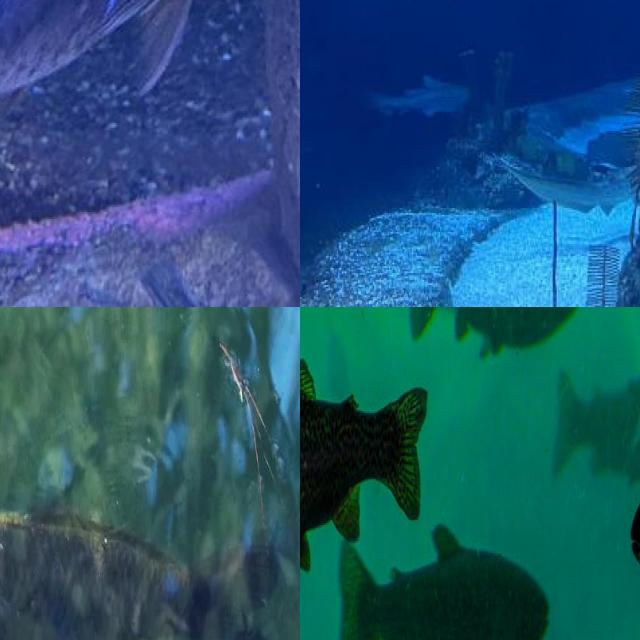fish: (0, 307, 300, 640), (0, 0, 300, 307), (300, 382, 582, 640)
